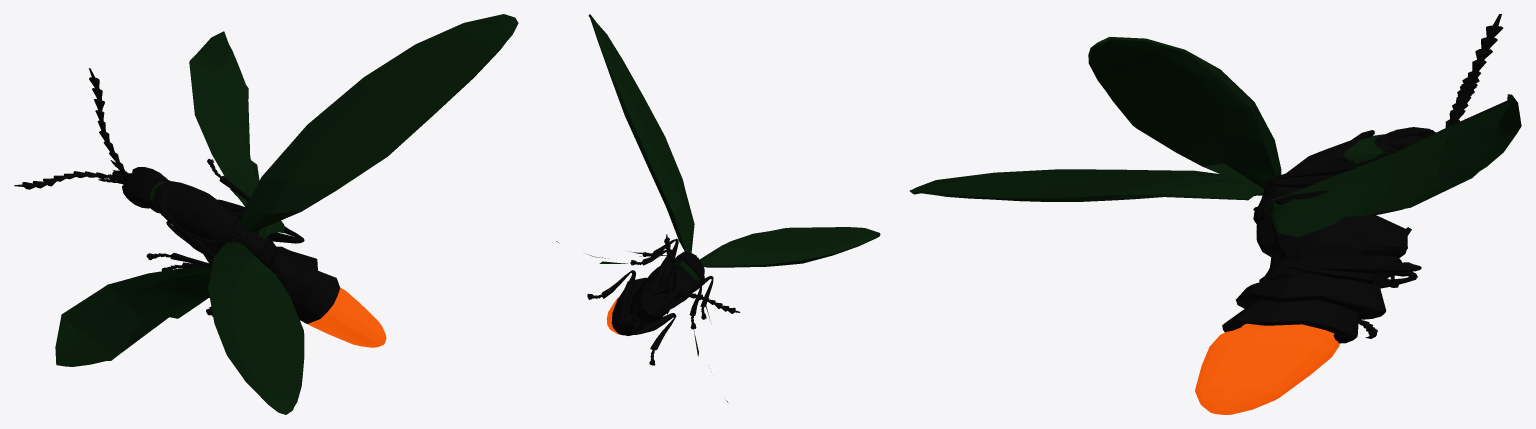
Rendered from Firefly 5.glb.
3 renders of one model, left to right at view 1: azimuth 30°, elevation 25°; view 2: azimuth 150°, elevation 25°; view 3: azimuth 270°, elevation 25°, orthographic. The views are drawn at different scales.
Parts seen in each view (by area): view 1: firefly.023, firefly.020, firefly.021, firefly.022, firefly.024; view 2: firefly.020, firefly.023, firefly.021; view 3: firefly.020, firefly.023, firefly.024, firefly.021.
Boxes of the visible parts, <box> form: firefly.023: <box>239,14,518,231</box>; firefly.020: <box>14,68,386,347</box>; firefly.021: <box>208,242,304,414</box>; firefly.022: <box>55,266,211,366</box>; firefly.024: <box>189,31,284,238</box>; firefly.020: <box>587,234,740,365</box>; firefly.023: <box>588,14,694,252</box>; firefly.021: <box>699,227,880,267</box>; firefly.020: <box>1195,14,1503,414</box>; firefly.023: <box>1088,37,1281,190</box>; firefly.024: <box>1265,94,1521,237</box>; firefly.021: <box>909,169,1264,201</box>.
Bounding box in the file's own units: 0.0986 × 0.0969 × 0.1205.
